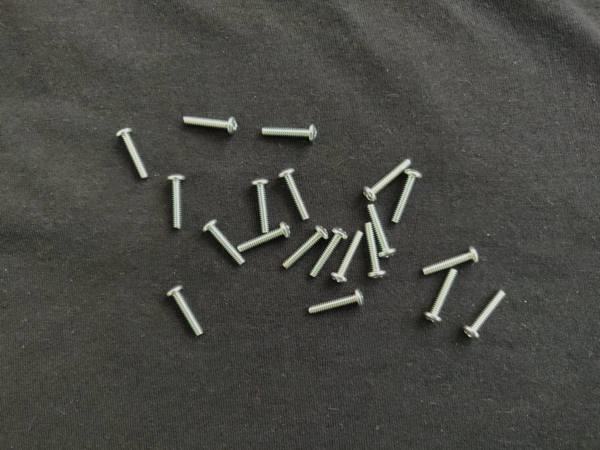longscrew: (202, 222, 248, 269), (163, 285, 205, 336), (112, 126, 150, 182), (312, 228, 352, 278), (284, 225, 326, 272), (364, 158, 411, 200), (277, 167, 311, 225), (237, 223, 289, 256), (393, 170, 425, 223), (308, 287, 364, 315), (368, 205, 398, 256), (334, 232, 365, 281), (425, 249, 478, 272), (366, 223, 386, 281), (262, 124, 320, 142), (179, 116, 237, 133), (254, 179, 271, 235), (170, 172, 184, 229)
